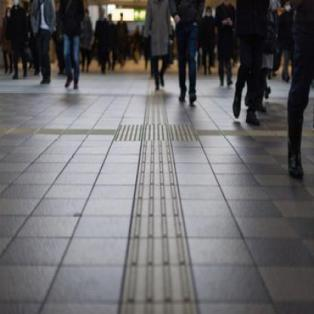Podoctatil: (1, 90, 314, 314)
